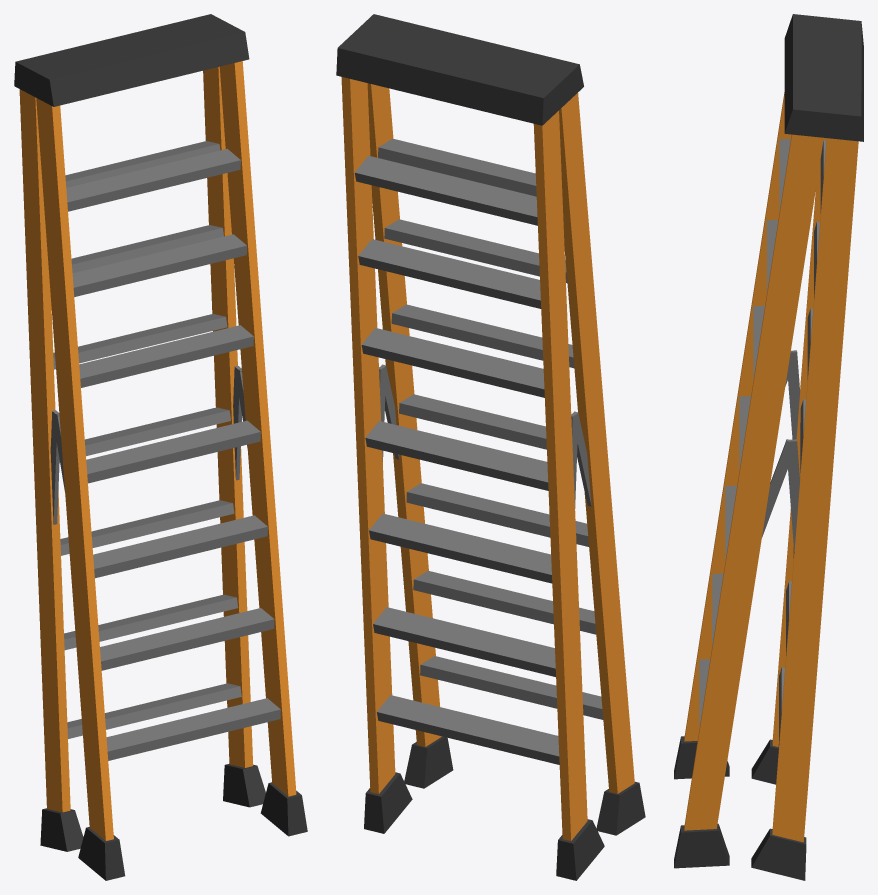
The model's file is OrangeLadder.glb.
3 views of the same model, side by side, from view 1: azimuth 30°, elevation 25°; view 2: azimuth 150°, elevation 25°; view 3: azimuth 270°, elevation 25° (orthographic). The views are drawn at different scales.
Parts seen in each view (by area): view 1: ladderOrange; view 2: ladderOrange; view 3: ladderOrange.
Part boxes in pixels (bbox=[...]): ladderOrange: bbox=[14, 14, 307, 880]; ladderOrange: bbox=[336, 14, 645, 880]; ladderOrange: bbox=[674, 14, 863, 880].
Size of the model in its own units: 0.7174 by 2.61 by 0.5841.
1 material, 1 textured.
